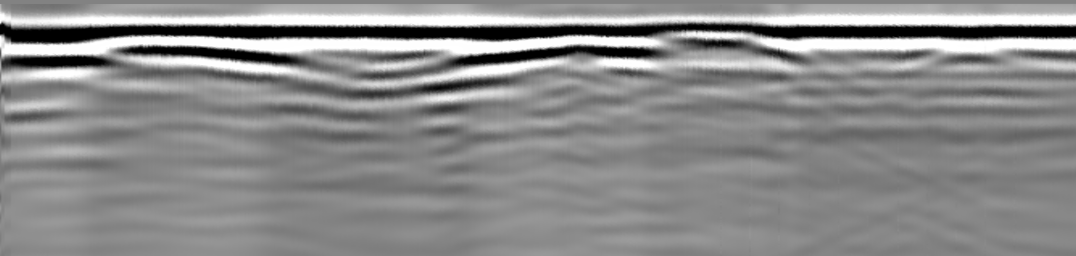pipe: (657, 24, 772, 51)
steel: (445, 40, 667, 63), (100, 39, 293, 65)
